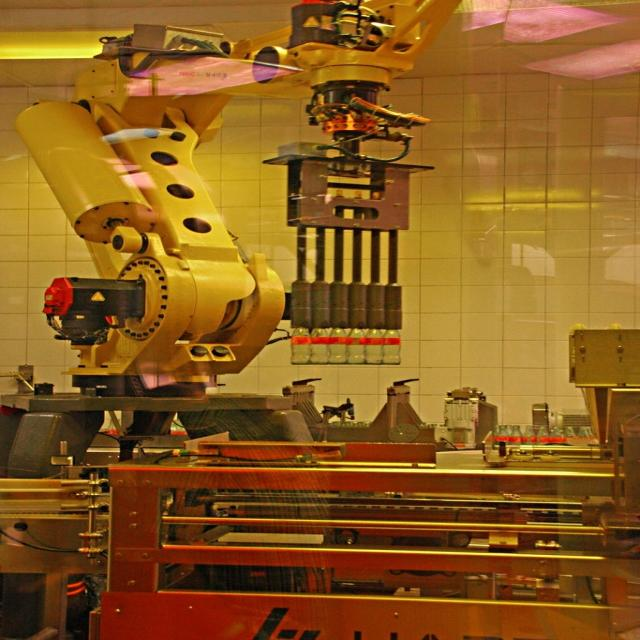E-waste: (9, 0, 640, 591)
